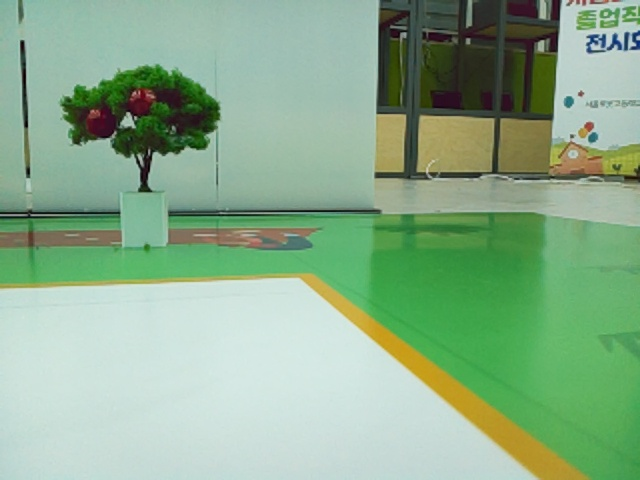apple: (130, 89, 155, 113), (86, 109, 103, 132)
